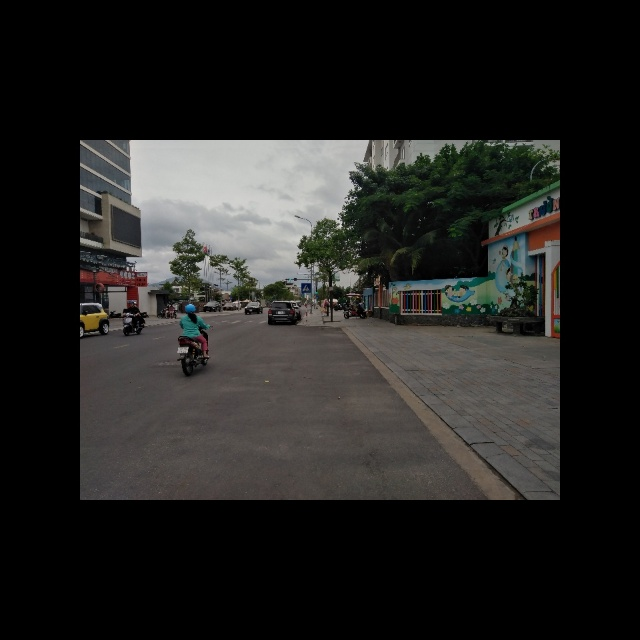Đường dành cho người đi bộ: (301, 283, 311, 293)
